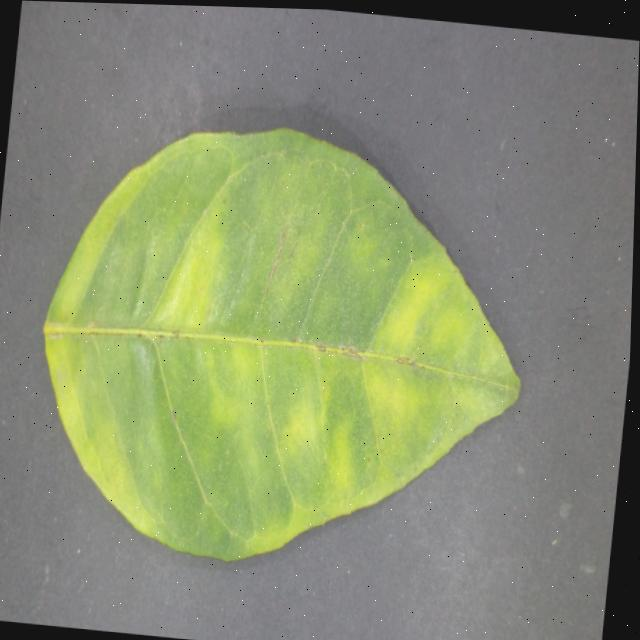greening: (44, 129, 519, 559)
